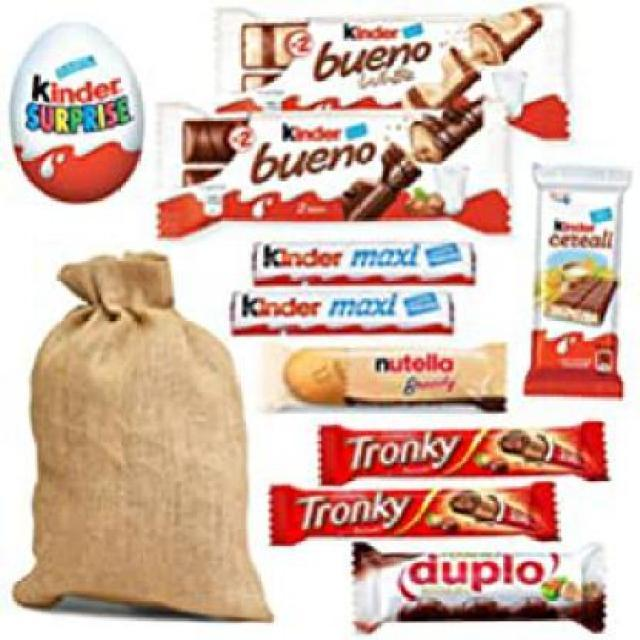Chocolate bar: (150, 100, 518, 243), (205, 5, 578, 144), (524, 157, 632, 406), (344, 538, 612, 636), (265, 480, 570, 552), (310, 418, 610, 491), (216, 283, 469, 342), (242, 238, 484, 292)
